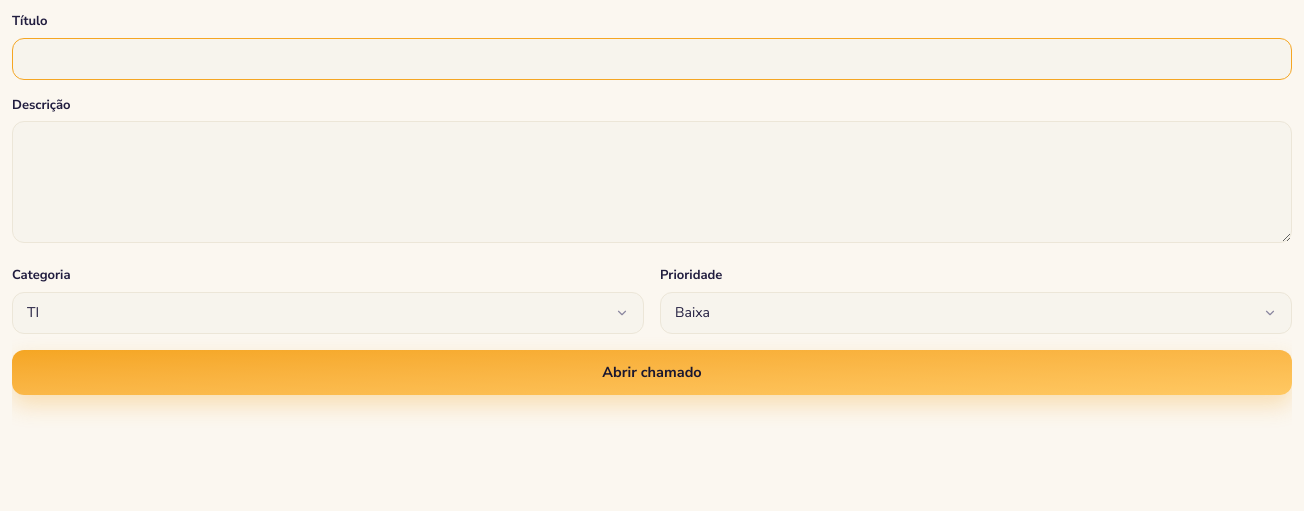
Test case: TicketFormFields › shows an error message when creation fails
The width and height of the screenshot is (1304, 511).
Type "x" into the field labelled "Título" at (652, 58), box [12,38,1292,80]
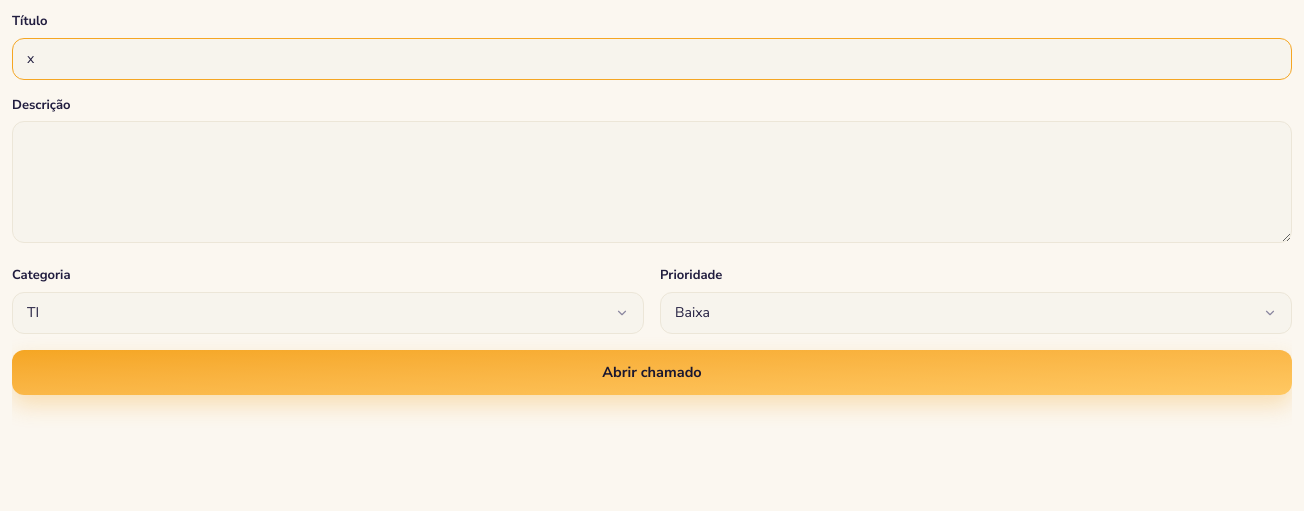
Type "y" into the text box labelled "Descrição" at (652, 182), box [12,121,1292,243]
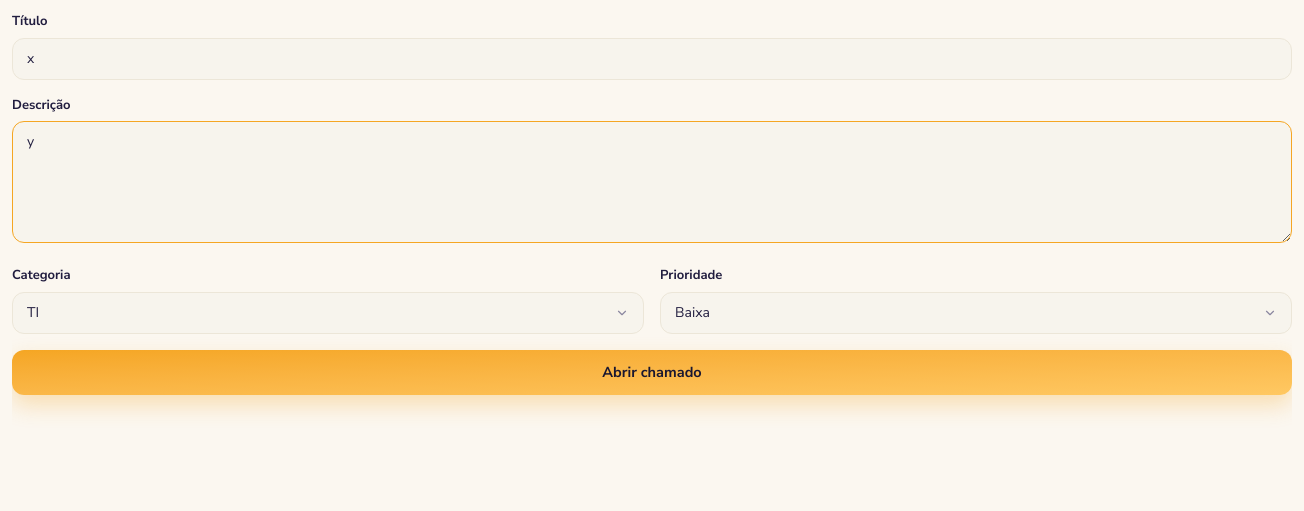
Click the button "Abrir chamado" at (652, 372), box [12,350,1292,395]
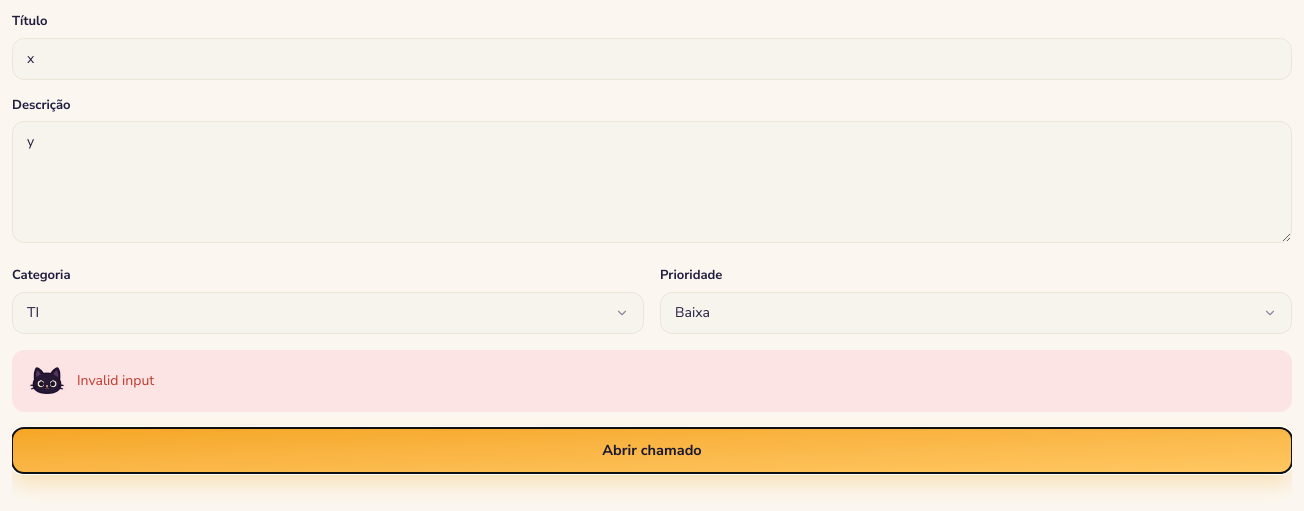
Result: the text "Invalid input" is shown at [77,370,154,390]
